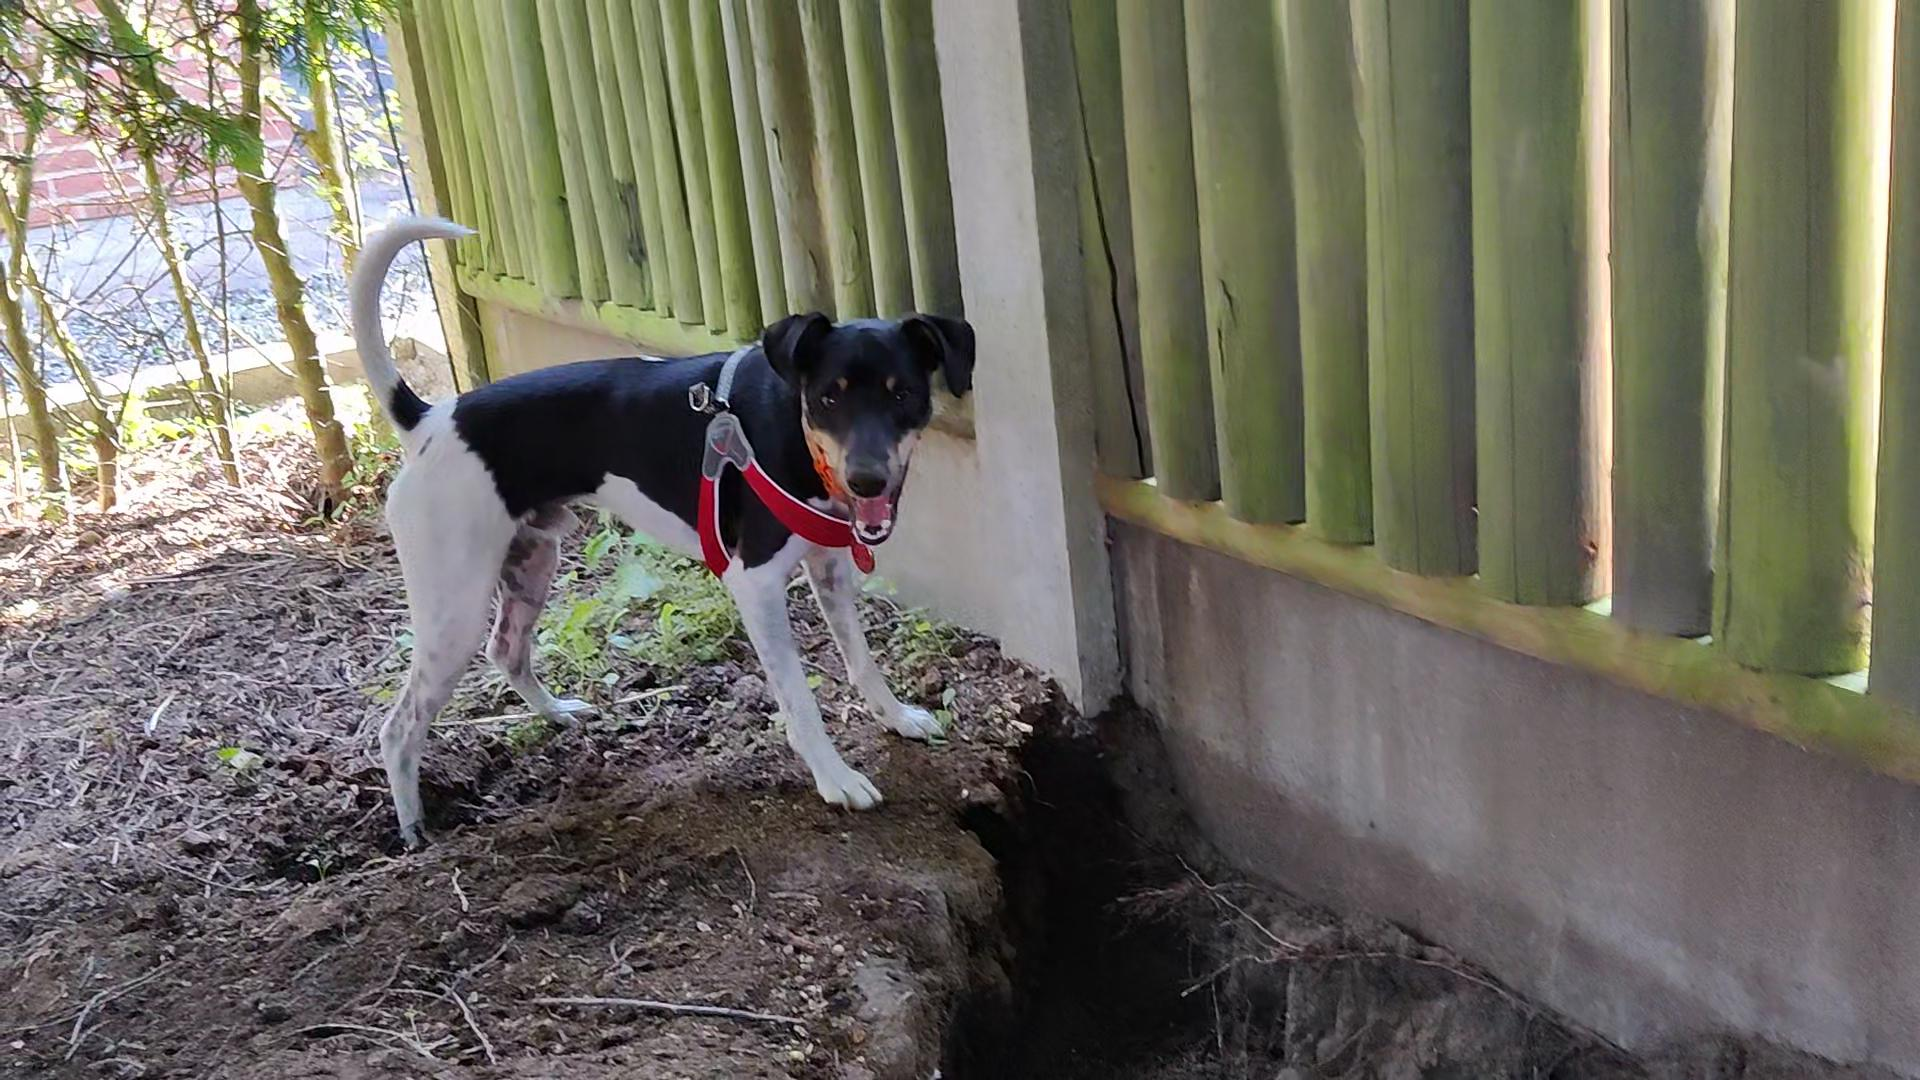Dog: (328, 186, 1005, 865)
